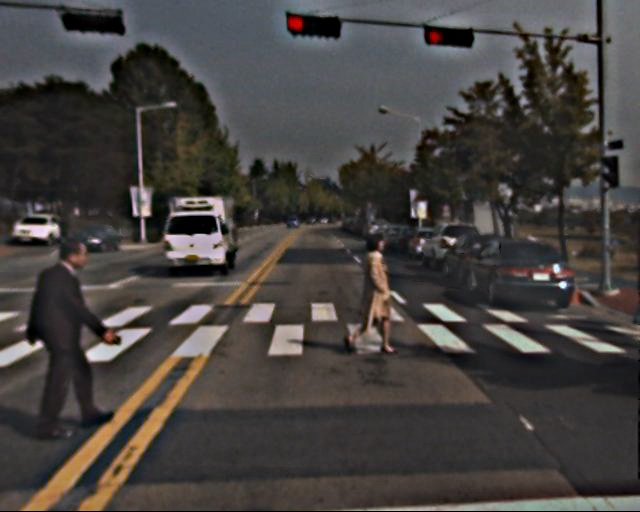person: (25, 237, 107, 437), (345, 233, 395, 355)
